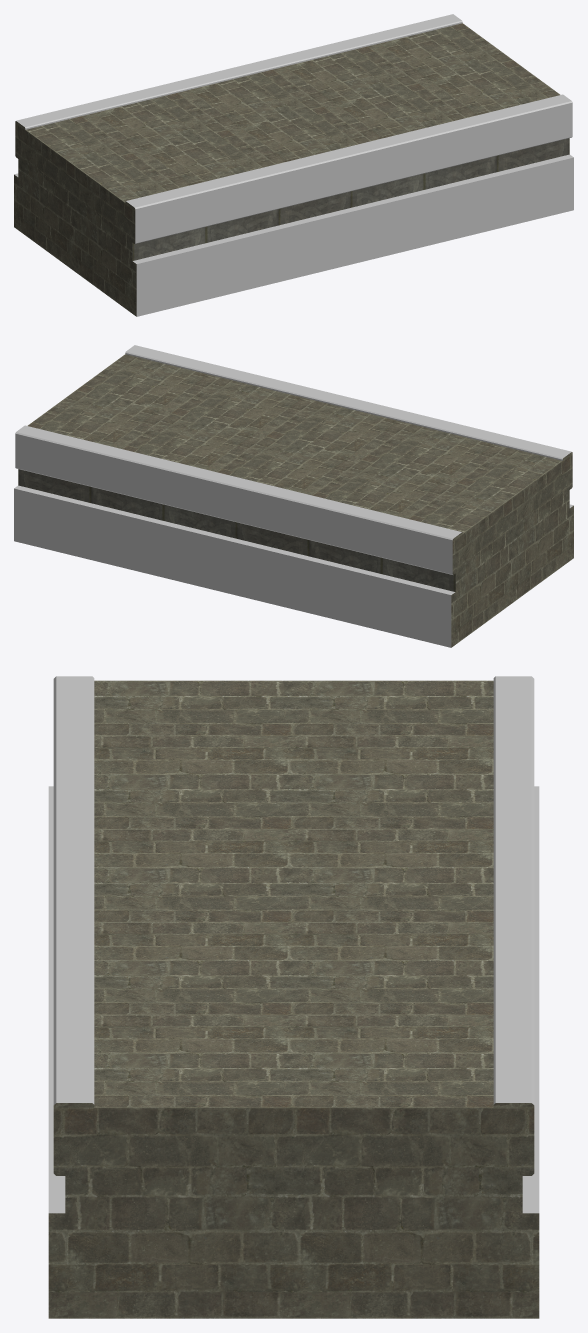
File: bridge_deck_03.fbx
3 renders of one model, top to bottom at view 1: azimuth 30°, elevation 25°; view 2: azimuth 150°, elevation 25°; view 3: azimuth 270°, elevation 25°, orthographic. The views are drawn at different scales.
Parts seen in each view (by area): view 1: bridge_deck_03; view 2: bridge_deck_03; view 3: bridge_deck_03.
Boxes of the visible parts, <box> form: bridge_deck_03: <box>14,14,573,316</box>; bridge_deck_03: <box>14,345,573,647</box>; bridge_deck_03: <box>48,676,539,1318</box>.
Bounding box in the file's own units: 1600 × 377 × 777.
